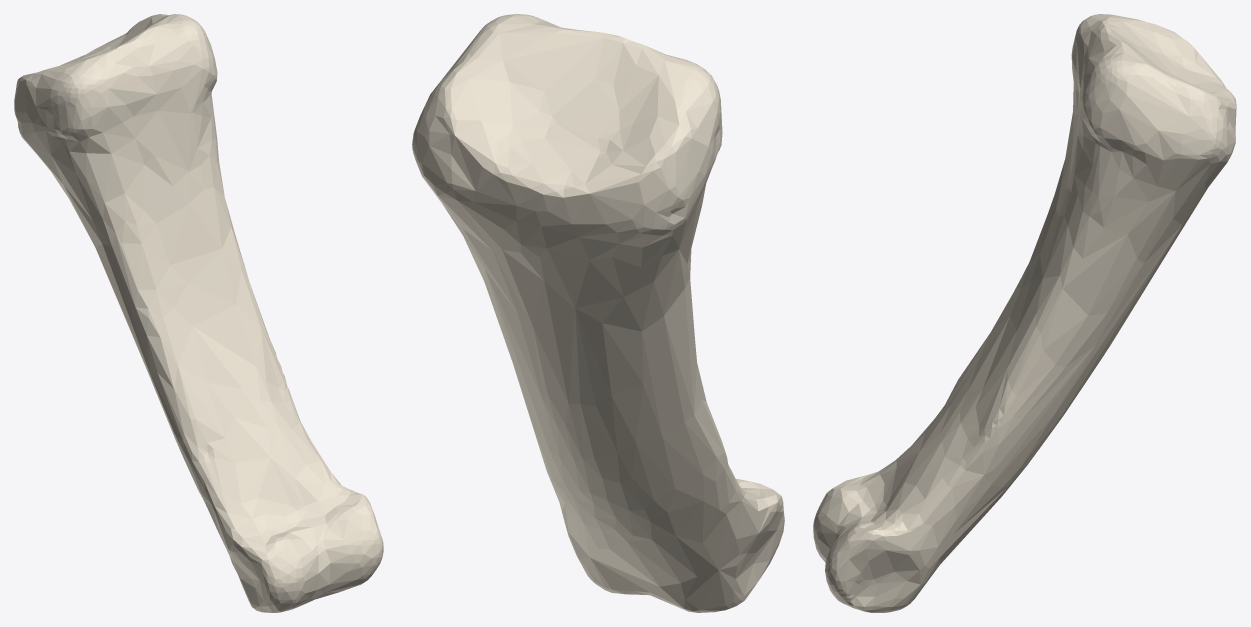
Rendered from left_middle_proximal_phalanx.glb.
3 renders of one model, left to right at view 1: azimuth 30°, elevation 25°; view 2: azimuth 150°, elevation 25°; view 3: azimuth 270°, elevation 25°, orthographic. The views are drawn at different scales.
Visible parts, largest first — view 1: left_middle_proximal_phalanx; view 2: left_middle_proximal_phalanx; view 3: left_middle_proximal_phalanx.
Boxes of the visible parts, x1,y1,x2,y2 form: left_middle_proximal_phalanx: (14, 14, 383, 612); left_middle_proximal_phalanx: (412, 14, 784, 612); left_middle_proximal_phalanx: (813, 14, 1236, 612).
Bounding box in the file's own units: 0.0183 × 0.0408 × 0.0292.
